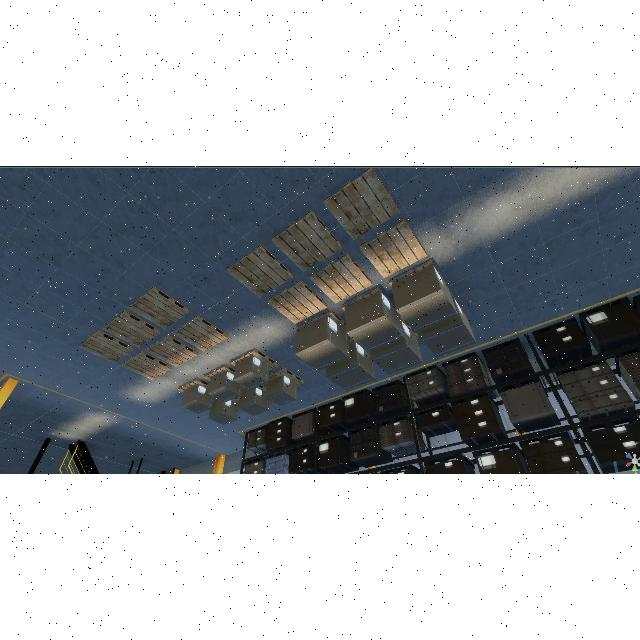wooden_pallet: (268, 280, 327, 324), (174, 316, 228, 351), (146, 335, 198, 367), (231, 347, 278, 371), (299, 309, 346, 331), (341, 287, 381, 312), (268, 367, 305, 386)
